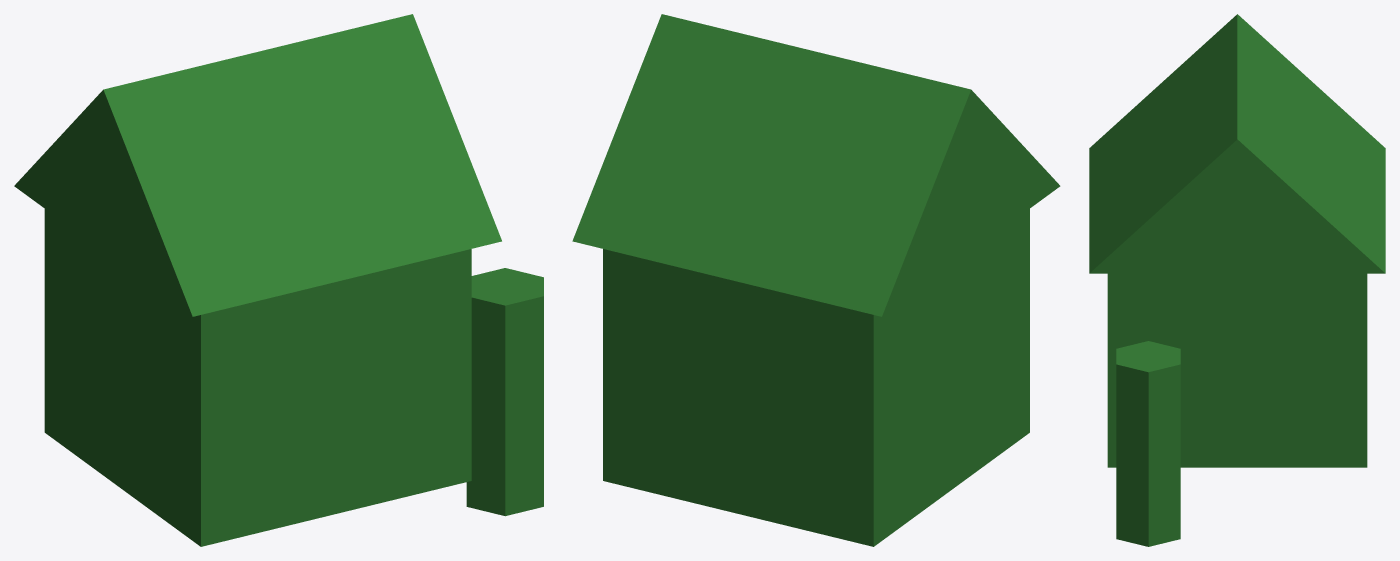
Rendered from lumberjack.obj.
3 views of the same model, side by side, from view 1: azimuth 30°, elevation 25°; view 2: azimuth 150°, elevation 25°; view 3: azimuth 270°, elevation 25° (orthographic). The views are drawn at different scales.
Size of the model in its own units: 0.5 by 0.56 by 0.4.
